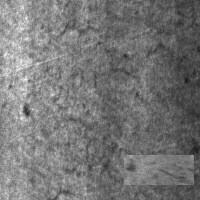crazing: (40, 114, 200, 197), (35, 17, 171, 107)
rolled-in_scale: (124, 155, 194, 185)
